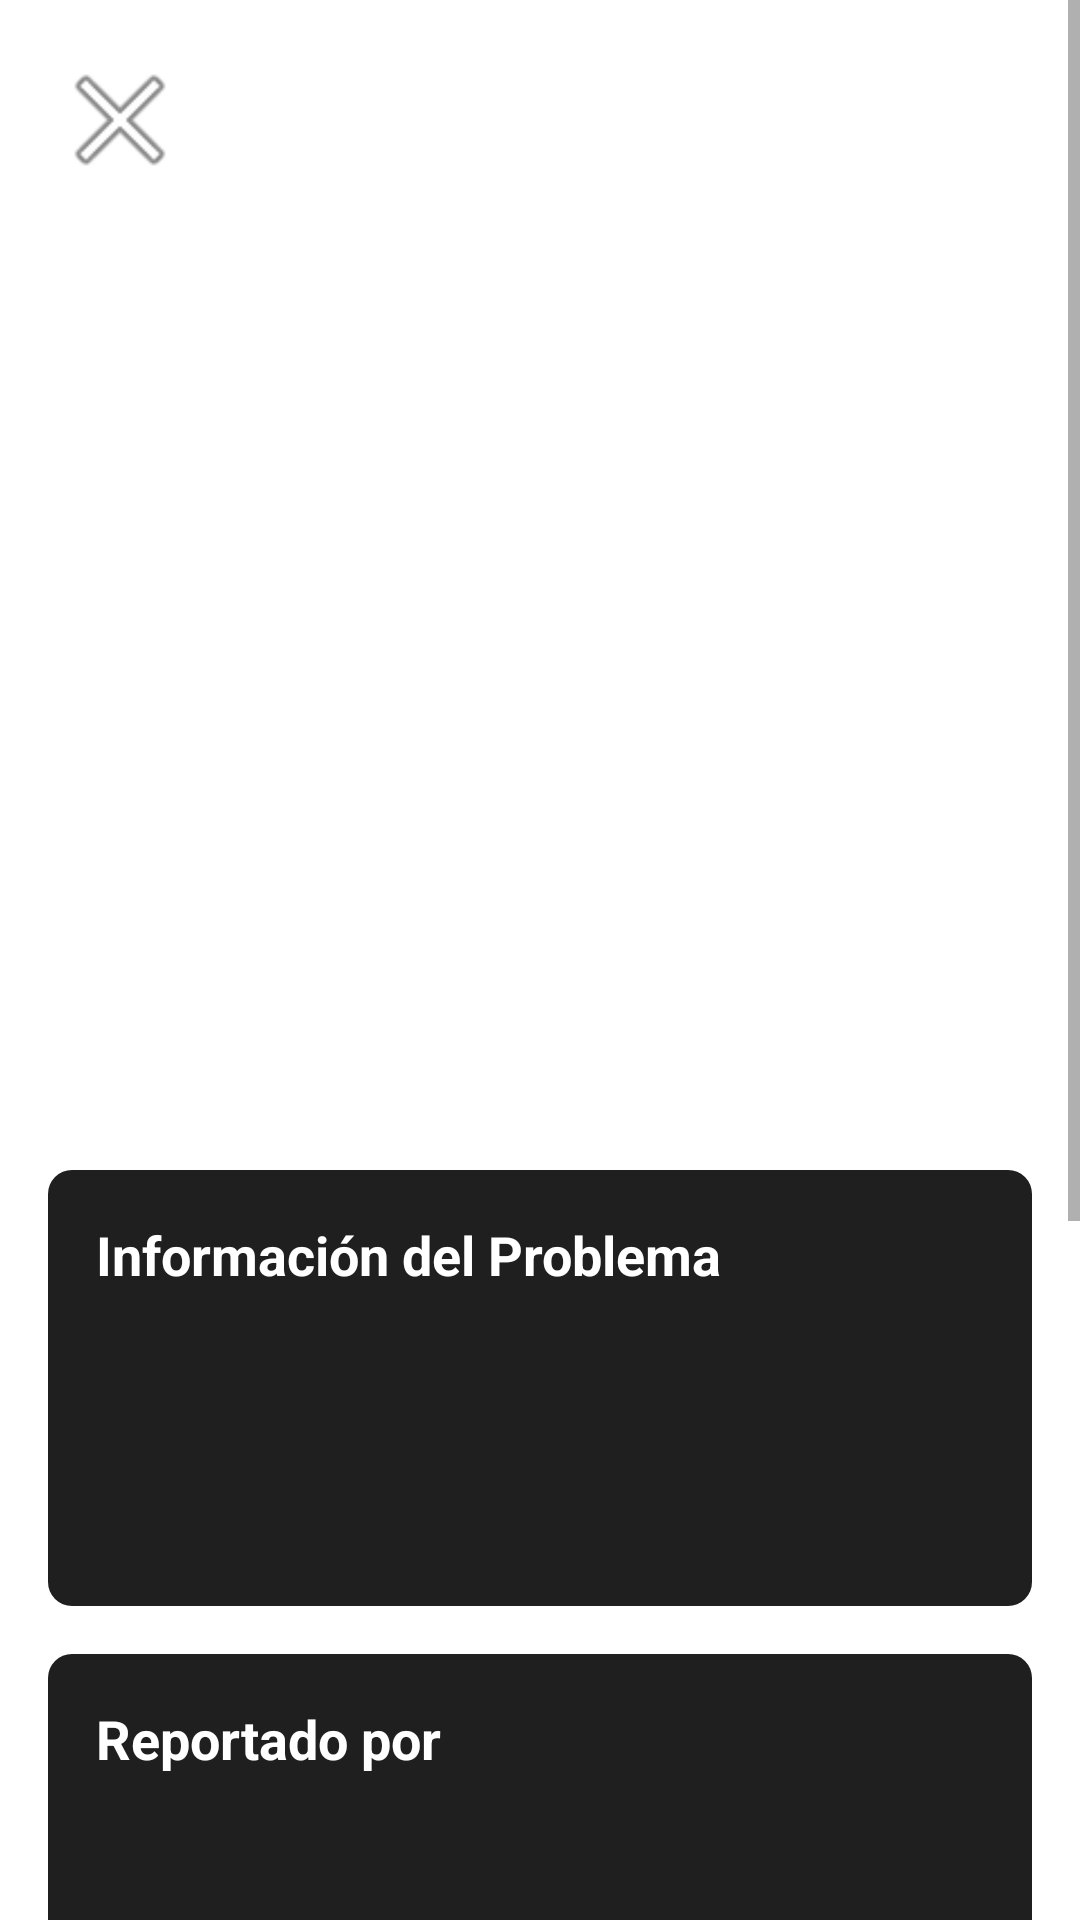

Where to tap for icons on this 1080 x 1920 app screen, as (x,y):
Retroceder: (120,120)
